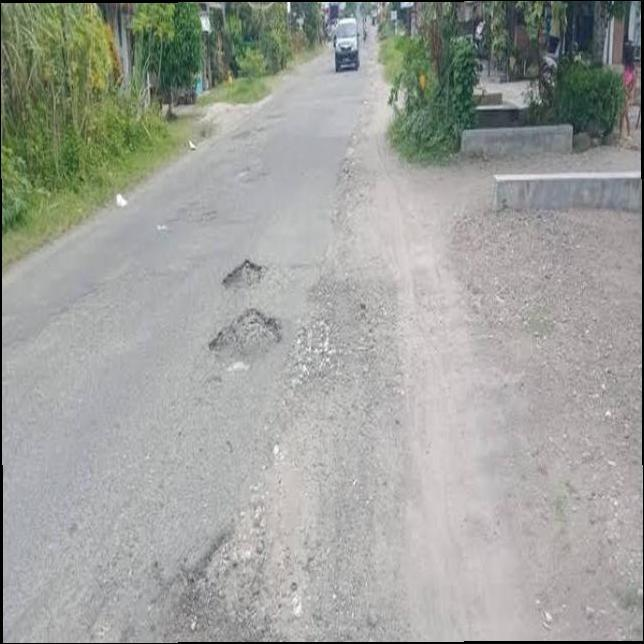Lubang: (201, 305, 282, 368)
